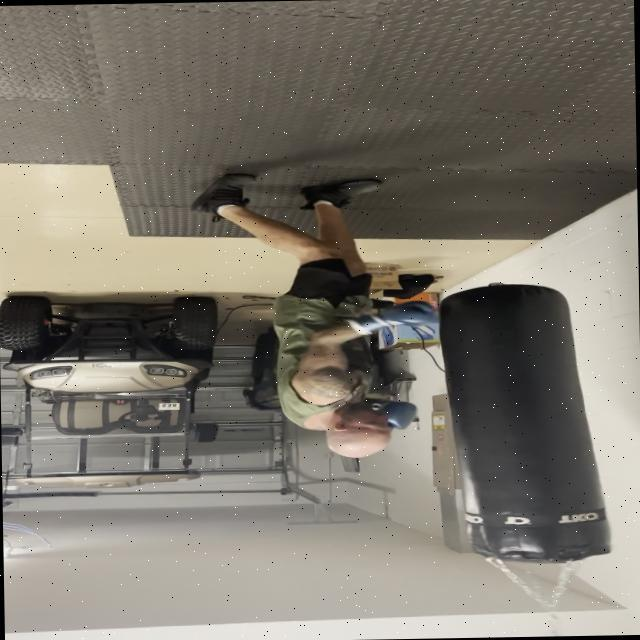bag: (444, 280, 595, 572)
uppercut: (281, 288, 446, 466)
